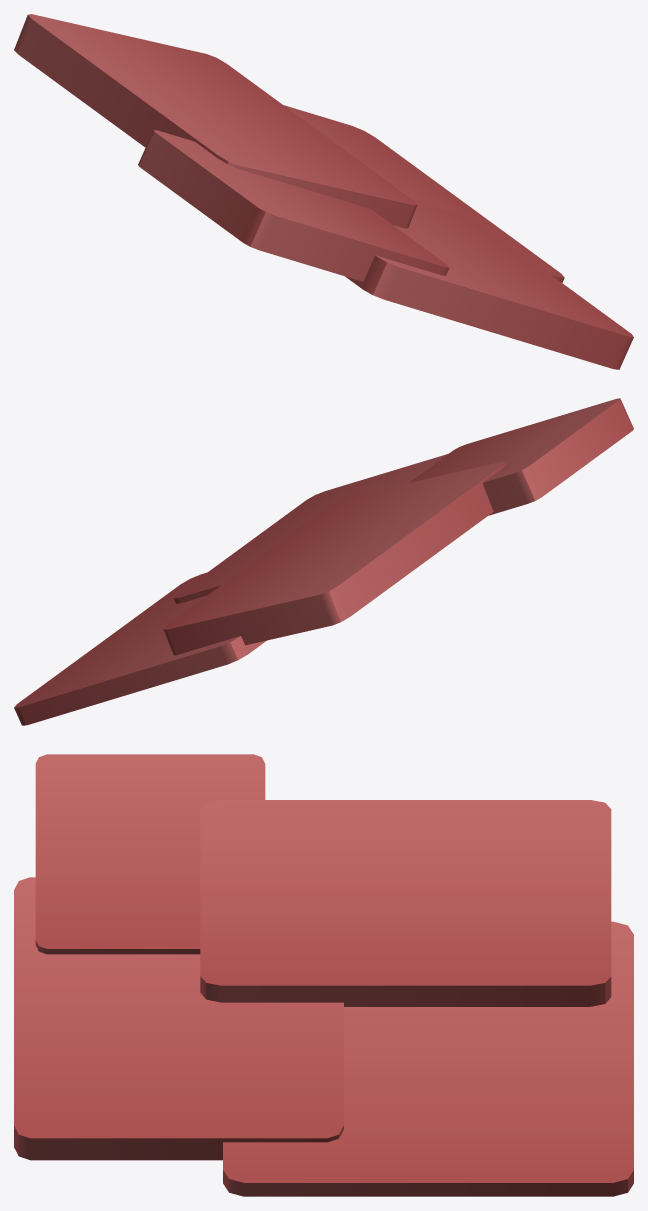
The model's file is RoofTile_Bot_2.fbx.
3 renders of one model, top to bottom at view 1: azimuth 30°, elevation 25°; view 2: azimuth 150°, elevation 25°; view 3: azimuth 270°, elevation 25°, orthographic. The views are drawn at different scales.
Visible parts, largest first — view 1: rooftile_bot2_LOD0; view 2: rooftile_bot2_LOD0; view 3: rooftile_bot2_LOD0.
Part boxes in pixels (x1,y1,x2,y2): rooftile_bot2_LOD0: (14,14,633,369); rooftile_bot2_LOD0: (14,398,633,725); rooftile_bot2_LOD0: (14,754,633,1196).
Bounding box in the file's own units: 0.8699 × 0.5064 × 1.13.
